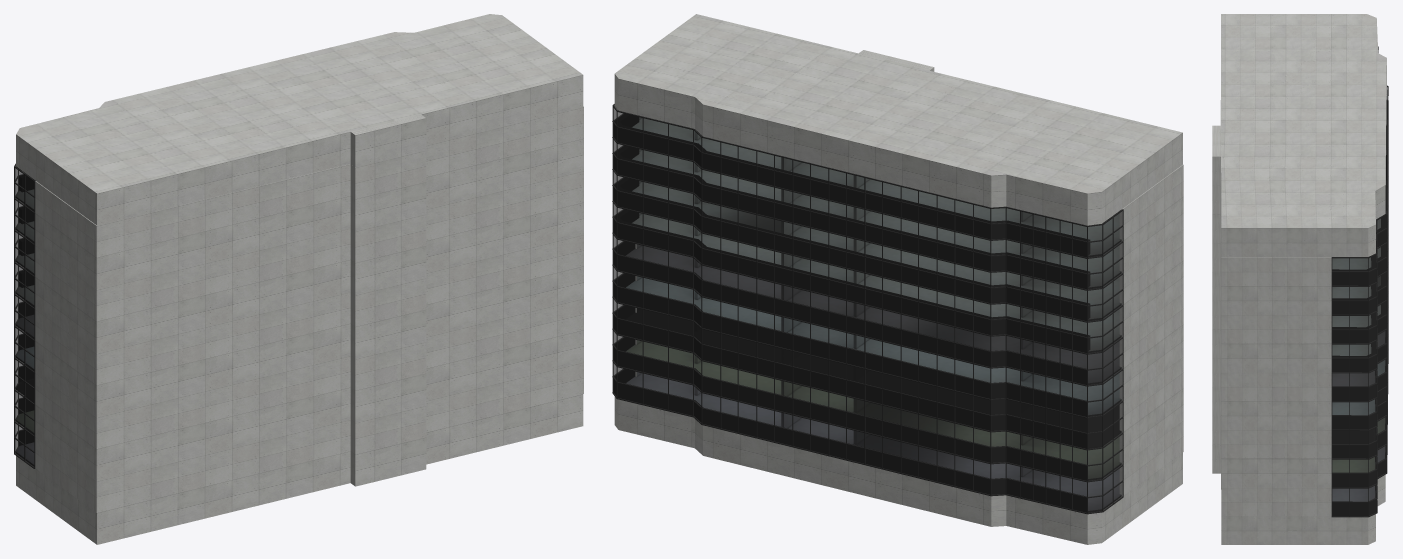
File: building.gltf
The picture shows the model from 3 angles, left to right: view 1: azimuth 30°, elevation 25°; view 2: azimuth 150°, elevation 25°; view 3: azimuth 270°, elevation 25°; orthographic projection. The views are drawn at different scales.
Visible parts, largest first — view 1: Walls, WallTop, WallBottom, WindowGlass, WindowFrame, Core, WallsOutside; view 2: WindowGlass, WallsOutside, Core, WallTop, WindowFrame, Walls, WallBottom; view 3: WallTop, Walls, WindowGlass, WallsOutside, Core, WallBottom, WindowFrame.
Boxes of the visible parts, box(x1,y1,x2,y2) form: Walls: box(35, 106, 583, 512); WallTop: box(16, 14, 583, 225); WallBottom: box(16, 394, 583, 544); WindowGlass: box(15, 168, 33, 466); WindowFrame: box(14, 163, 35, 468); Core: box(16, 166, 35, 466); WallsOutside: box(19, 175, 34, 445); WindowGlass: box(613, 107, 1122, 512); WallsOutside: box(613, 114, 1090, 512); Core: box(615, 106, 1121, 512); WallTop: box(614, 14, 1182, 225); WindowFrame: box(612, 104, 1123, 514); Walls: box(635, 164, 1183, 496); WallBottom: box(614, 396, 1182, 544); WallTop: box(1212, 14, 1386, 256); Walls: box(1212, 100, 1331, 516); WindowGlass: box(1332, 87, 1387, 515); WallsOutside: box(1332, 101, 1387, 515); Core: box(1332, 217, 1385, 501); WallBottom: box(1212, 444, 1385, 544); WindowFrame: box(1331, 46, 1388, 517).
Size of the model in its own units: 285 by 195 by 98.46.
Materials: 5 (2 with a texture image).
